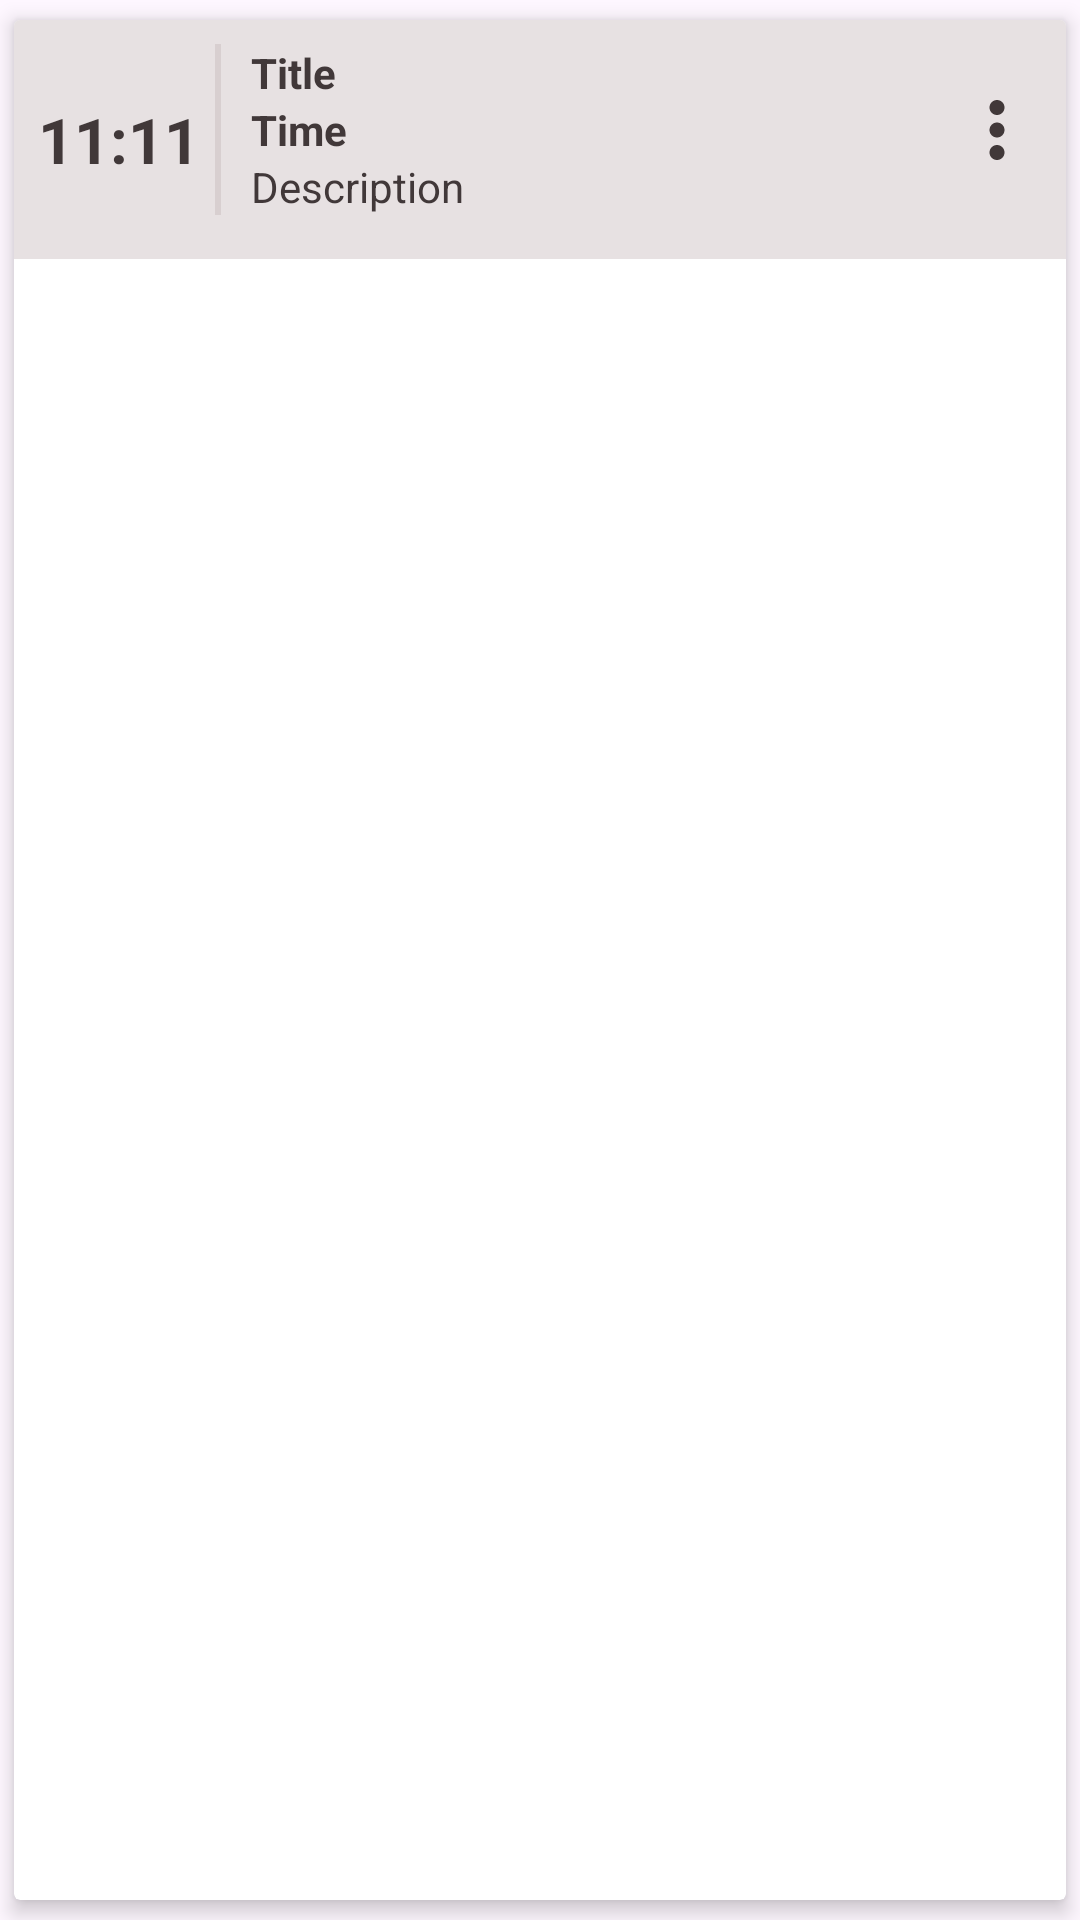

Named icons in this screenshot (1080px×1920px) and their centers, (x=x, y=y):
more option: (x=997, y=130)
